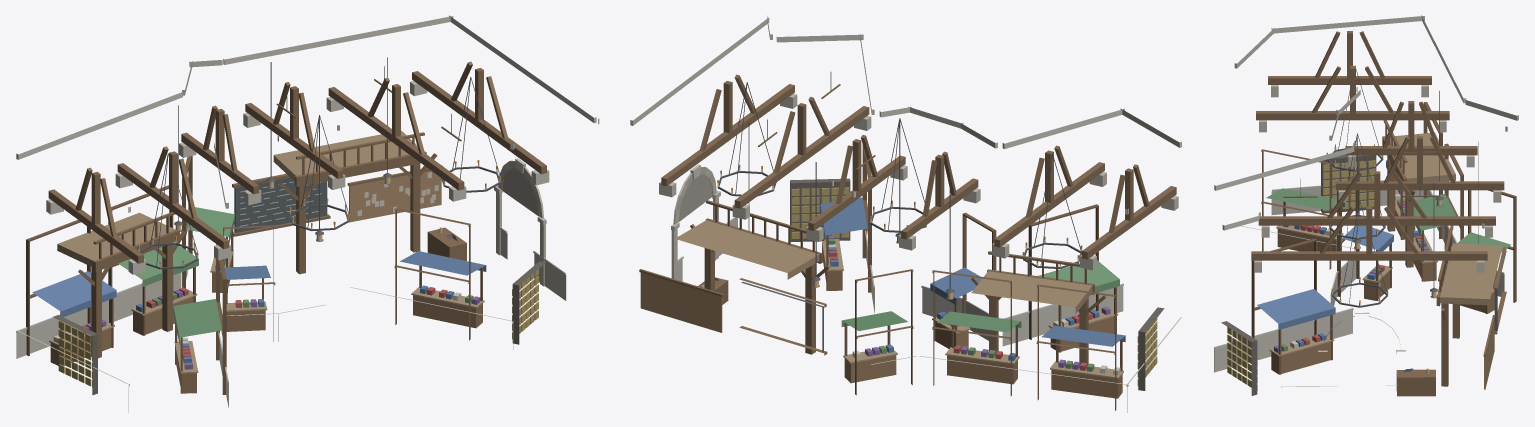
File: interior_b082.glb
3 views of the same model, side by side, from view 1: azimuth 30°, elevation 25°; view 2: azimuth 150°, elevation 25°; view 3: azimuth 270°, elevation 25° (orthographic). The views are drawn at different scales.
Visible parts, largest first — view 1: Interior_B082_mesh; view 2: Interior_B082_mesh; view 3: Interior_B082_mesh.
Part boxes in pixels (x1,y1,x2,y2): Interior_B082_mesh: (16, 15, 599, 412); Interior_B082_mesh: (630, 16, 1181, 412); Interior_B082_mesh: (1214, 15, 1518, 396).
Size of the model in its own units: 21.79 by 9.04 by 13.4.
